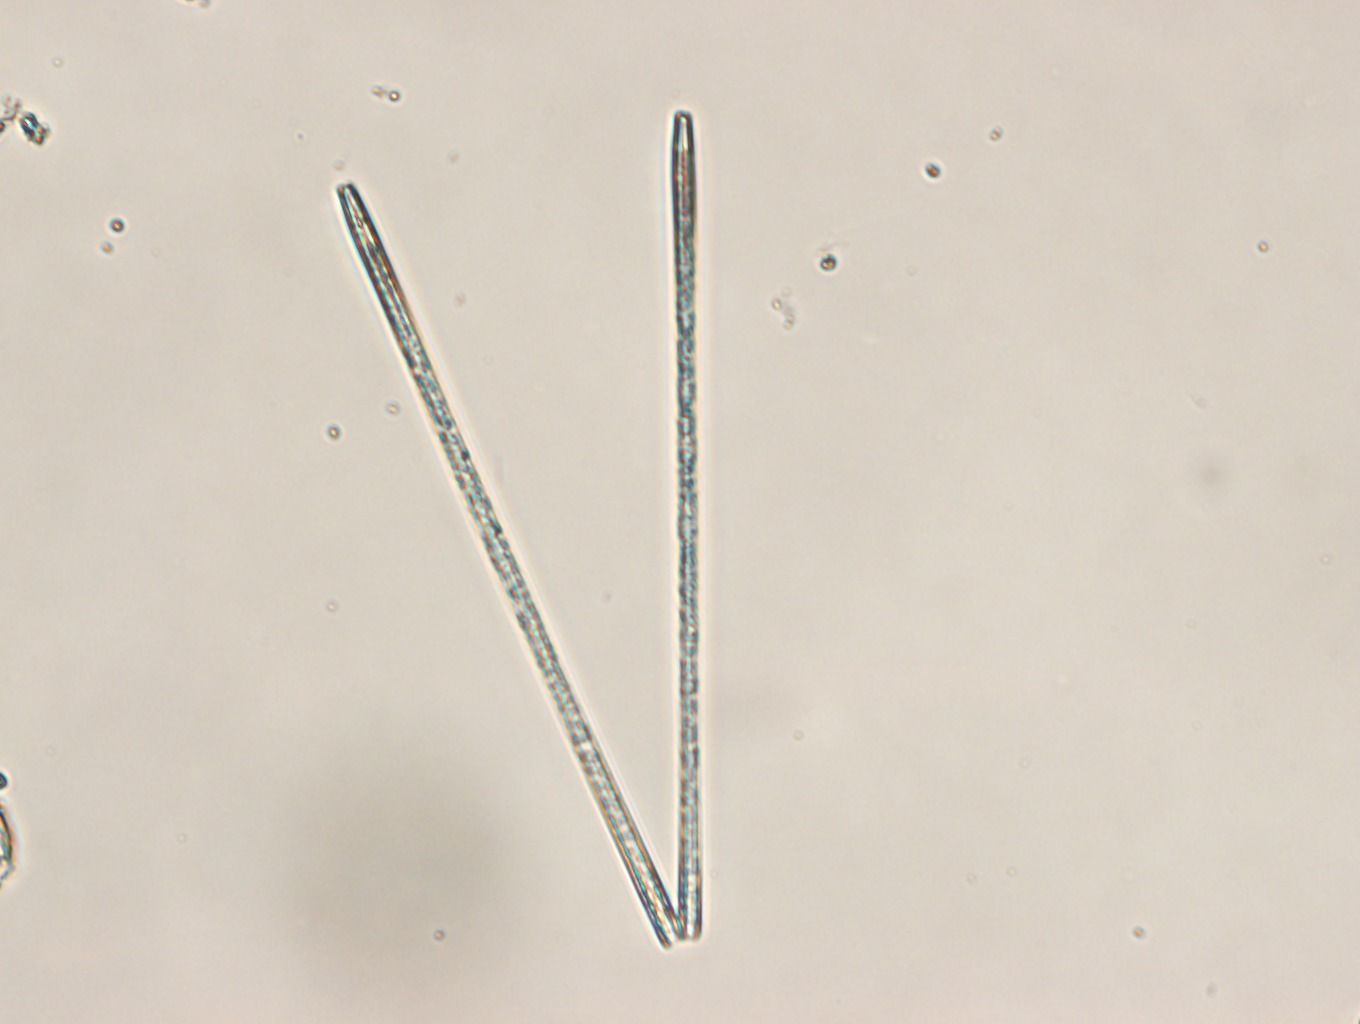thalassionema frauenfeldii: (334, 106, 705, 948)
